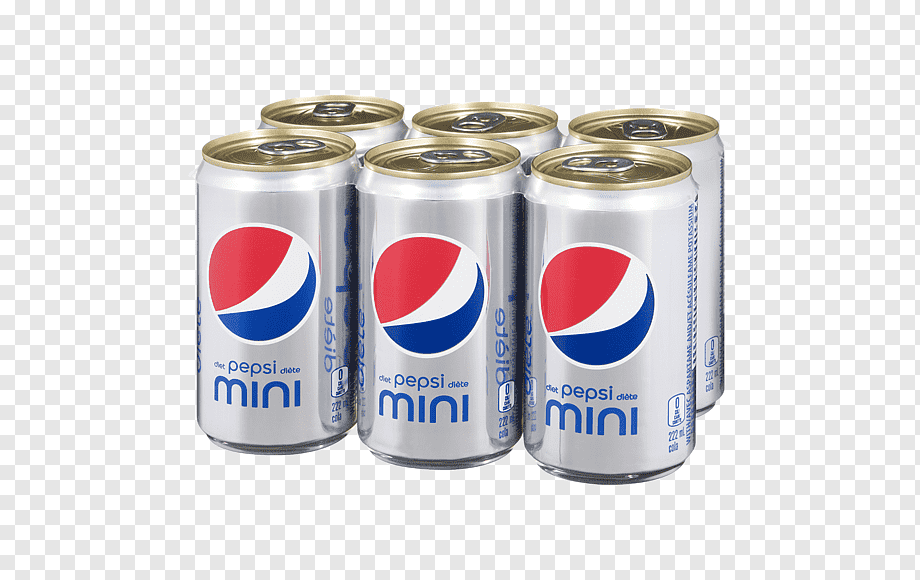metal: (193, 92, 729, 486)
